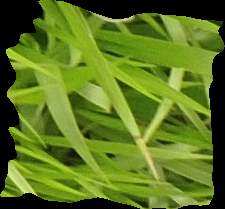grass: (1, 1, 224, 208)
